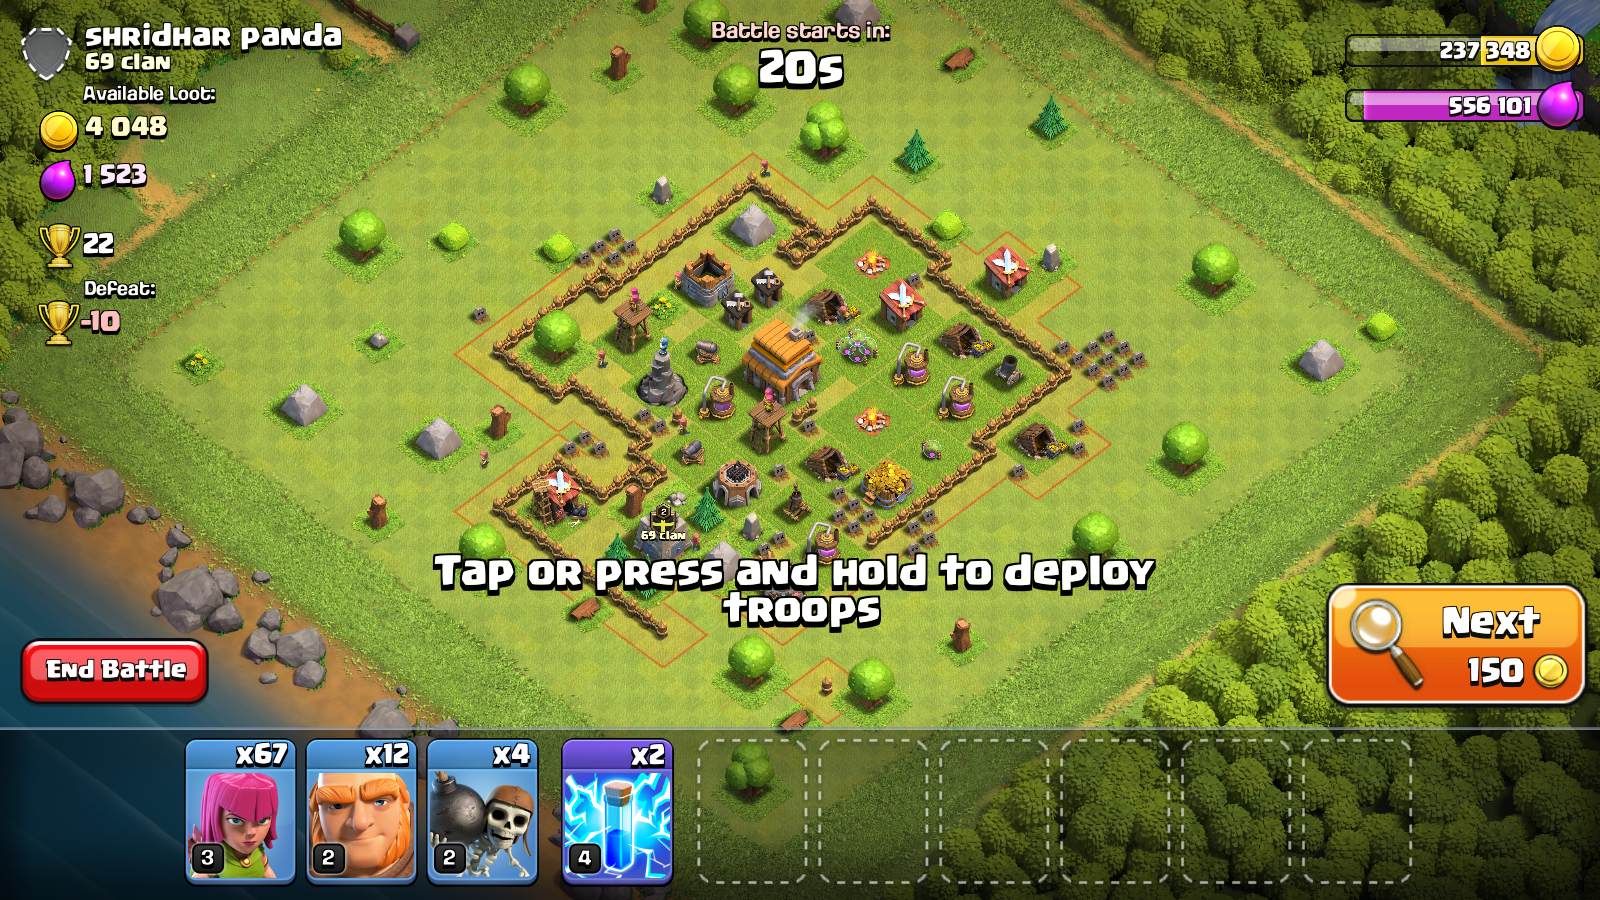loot_details: (1, 1, 368, 359)
next_searchbase: (1326, 587, 1588, 707)
troop_not_selected_message: (425, 551, 1165, 635)
